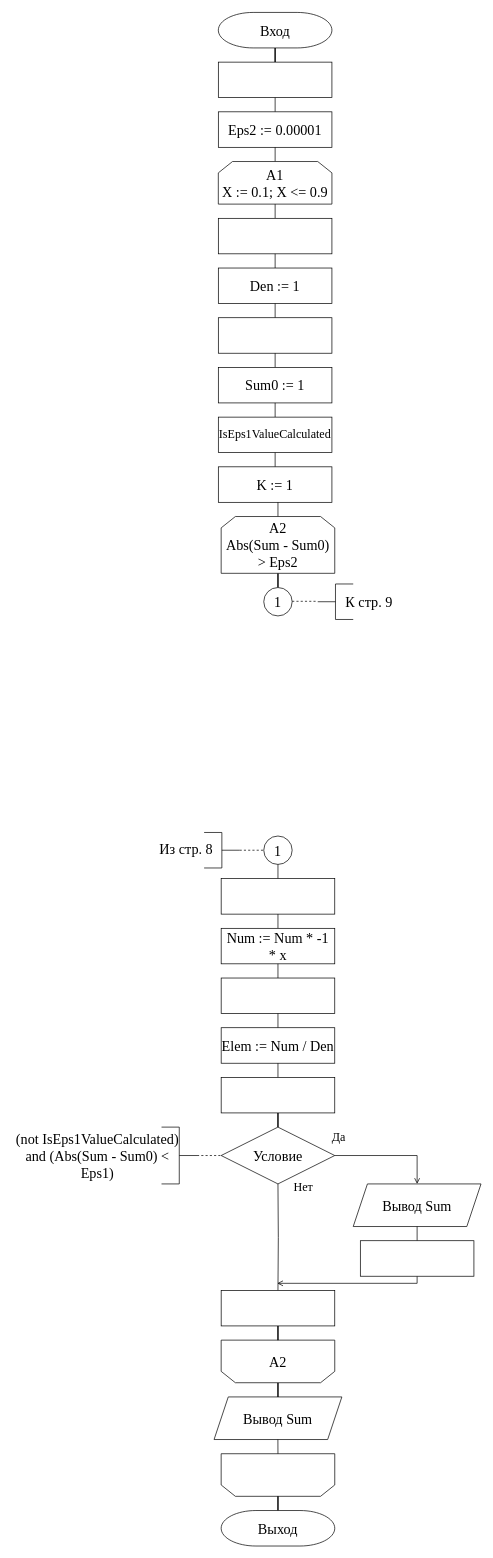
Some shapes in this 493 by 1558 pixel diagram are drawn without their labels. The shapes that lost their labels are listed below. From the top down, each one's centre as x and y in pixels, then its label:
pixel 275 79: Eps1 := 0.0001
pixel 275 236: Num := x
pixel 275 335: Sum := 0
pixel 277 896: Sum0 := Sum
pixel 277 995: Den := (4*k-1)*(4*k-3)
pixel 277 1095: Sum := Sum + Elem
pixel 417 1258: IsEps1ValueCalculated := True
pixel 277 1308: K := K + 1
pixel 277 1474: X := X + 0.1 А1
